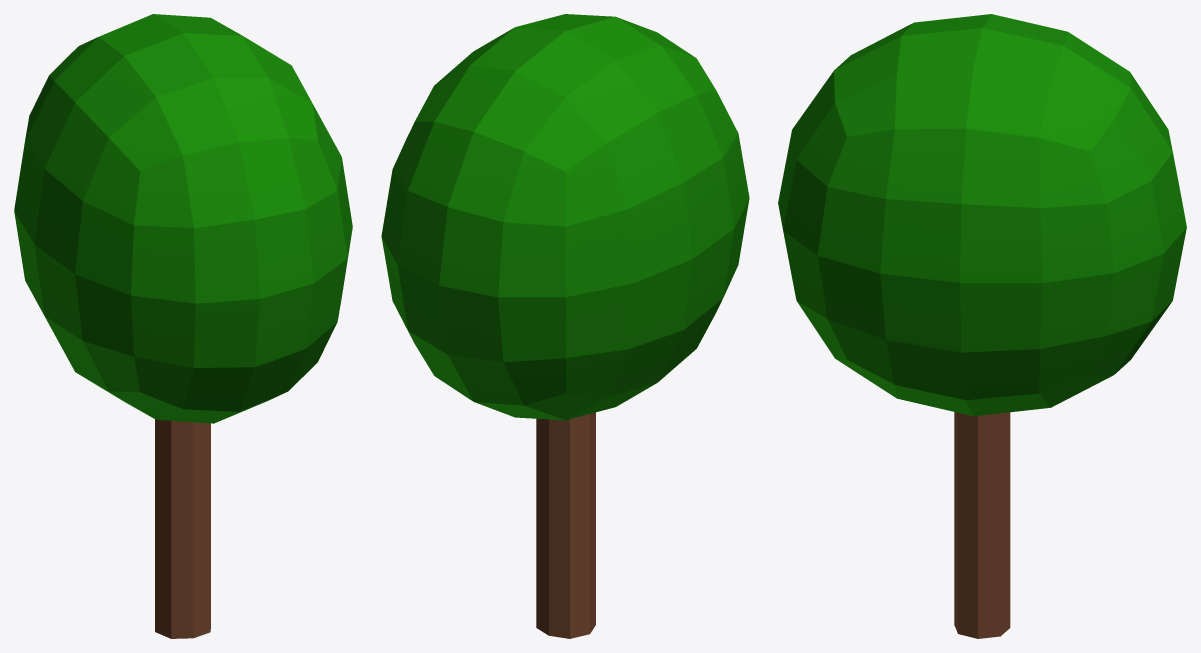
File: single tree.fbx
3 renders of one model, left to right at view 1: azimuth 30°, elevation 25°; view 2: azimuth 150°, elevation 25°; view 3: azimuth 270°, elevation 25°, orthographic.
Parts seen in each view (by area): view 1: Cube.191; view 2: Cube.191; view 3: Cube.191.
Part boxes in pixels (<box>): Cube.191: <box>14,14,352,638</box>; Cube.191: <box>381,14,749,638</box>; Cube.191: <box>778,14,1186,638</box>.
Bounding box in the file's own units: 4.36 × 8.95 × 5.54.
Materials: 1 (1 with a texture image).
